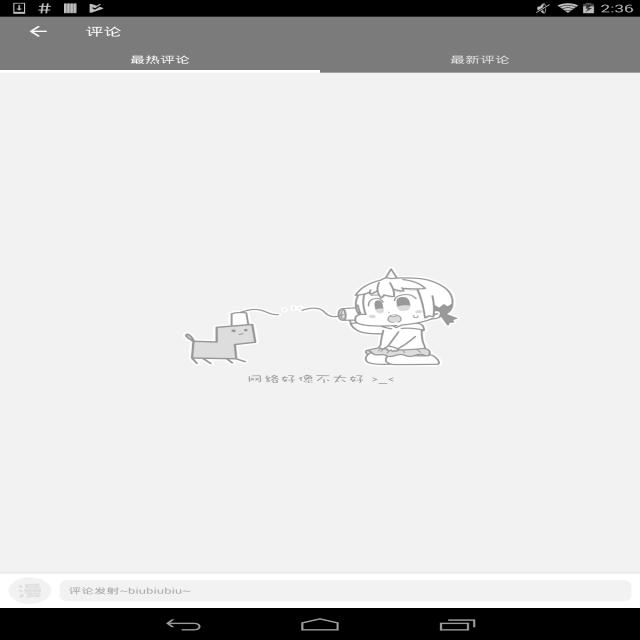ImageButton: (9, 17, 68, 46)
ImageView: (160, 260, 480, 393), (9, 577, 51, 604)
RadioButton: (130, 46, 190, 73), (450, 46, 510, 73)
TextView: (60, 580, 631, 601), (85, 24, 122, 39)
